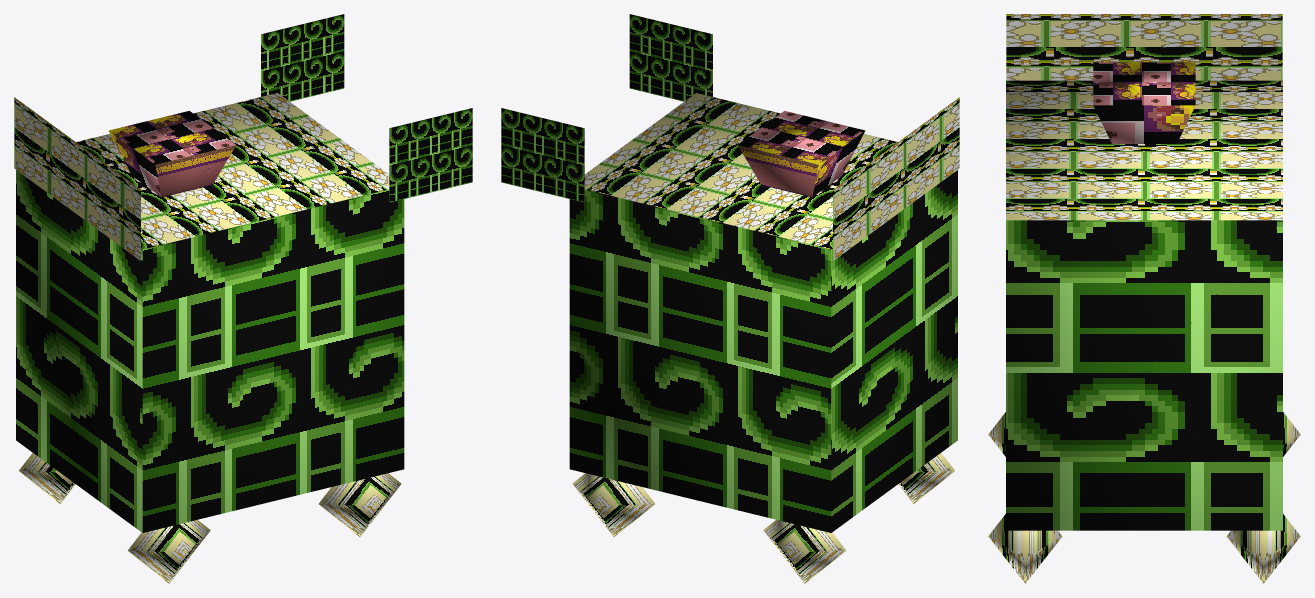
The picture shows the model from 3 angles, left to right: view 1: azimuth 30°, elevation 25°; view 2: azimuth 150°, elevation 25°; view 3: azimuth 270°, elevation 25°; orthographic projection. The views are drawn at different scales.
Visible parts, largest first — view 1: 3450kg_sh2_21; view 2: 3450kg_sh2_21; view 3: 3450kg_sh2_21.
Part boxes in pixels (x1,y1,x2,y2): 3450kg_sh2_21: (14, 14, 472, 583); 3450kg_sh2_21: (501, 14, 959, 583); 3450kg_sh2_21: (988, 14, 1300, 583).
Bounding box in the file's own units: 0.9927 × 1.16 × 0.7329.
Materials: 3 (3 with a texture image).
